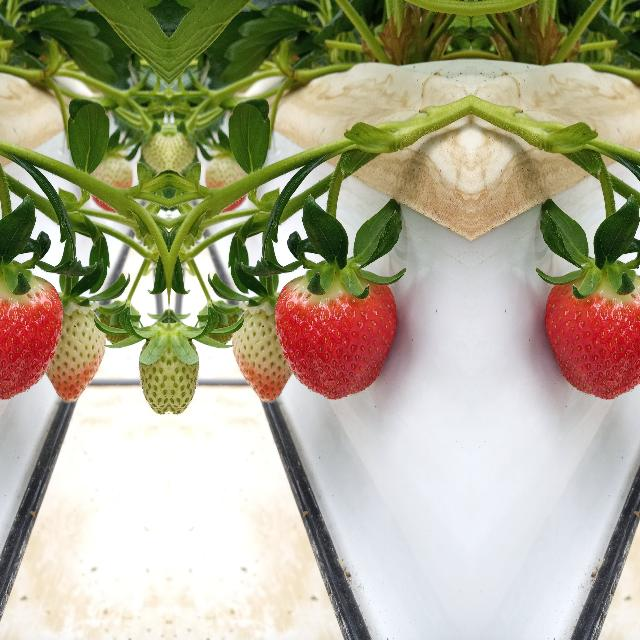Health_100: (273, 270, 397, 400), (544, 270, 640, 400), (0, 270, 63, 400)
Health_50: (224, 286, 296, 406), (40, 286, 112, 406)
